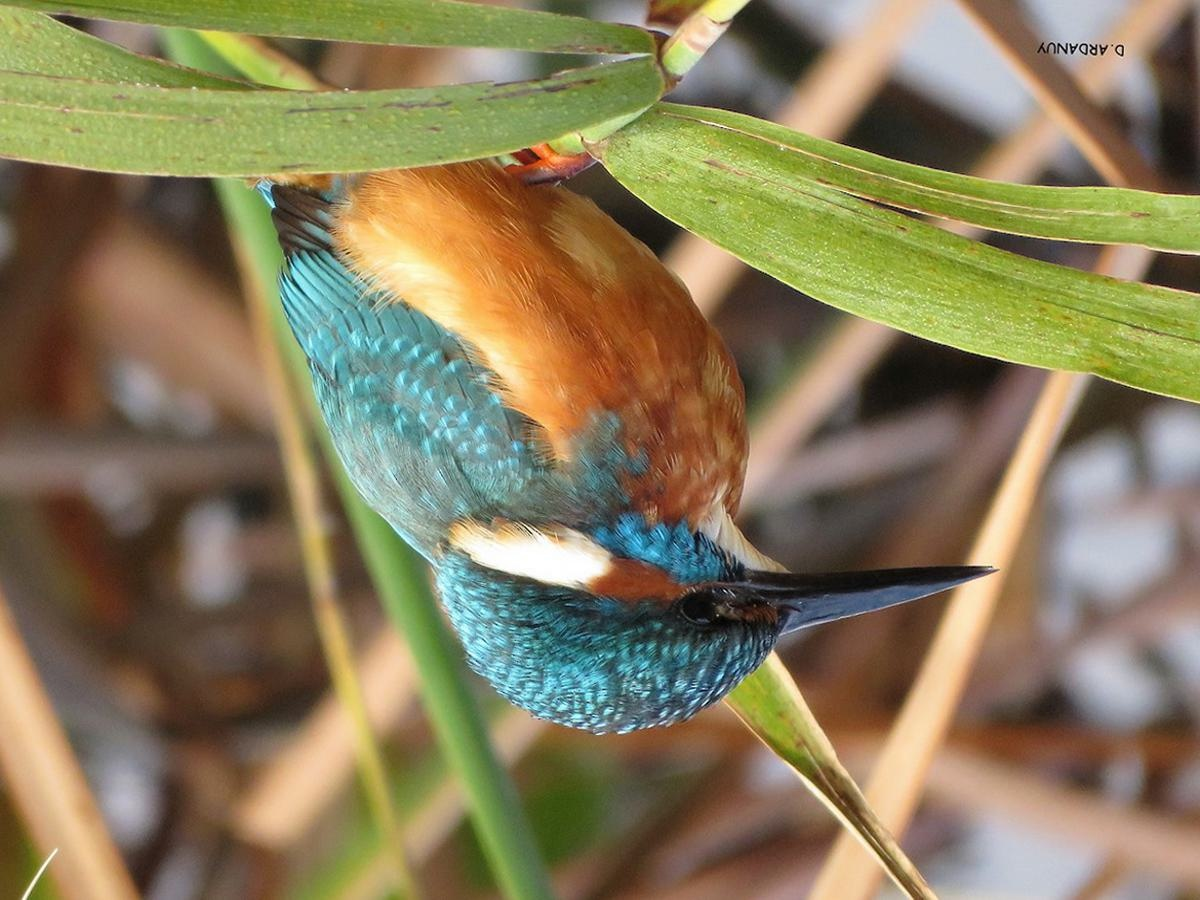kingfisher: (253, 125, 1004, 739)
